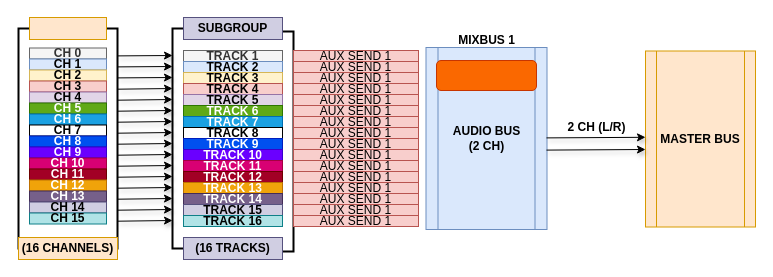
Image size: 773x277. Some labels were removed from this diagram. Here are the shapes that lost their labels. From the top down, the centre of each, then its label:
At point (67, 28): "TRACK".
At point (486, 75): "REVERB FX PLUGIN".
